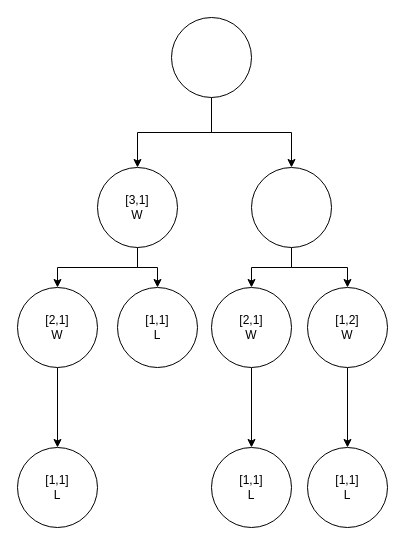
Image size: 405x545. Some labels were removed from this diagram. The shapes that lost their labels are listed below. From the top down, each one's centre as x and y in pixels, then its label:
At point 211,57: "[3,2] W".
At point 291,207: "[2,2] L".
